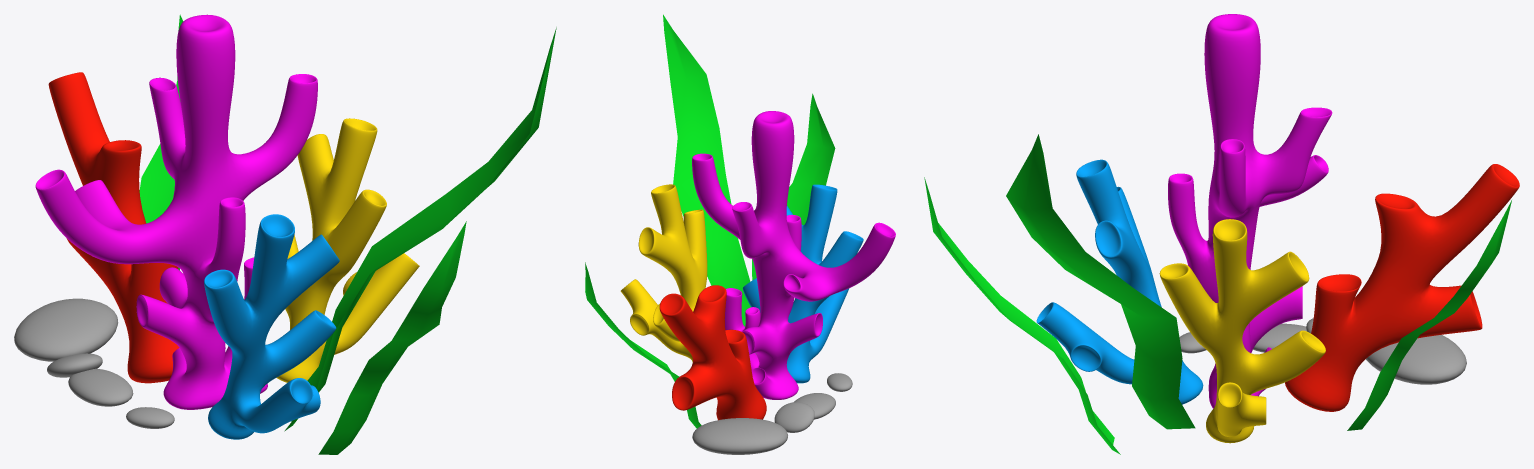
Rendered from Corals 1.fbx.
3 renders of one model, left to right at view 1: azimuth 30°, elevation 25°; view 2: azimuth 150°, elevation 25°; view 3: azimuth 270°, elevation 25°, orthographic. The views are drawn at different scales.
Visible parts, largest first — view 1: Cube, Cube.001, Cube.005, Cube.004, Plane, Plane.001, Cube.009, Cube.006, Plane.002, Cube.008, Cube.007; view 2: Cube, Plane, Cube.004, Cube.005, Cube.001, Cube.009, Plane.001, Plane.002, Cube.008, Cube.006, Cube.007; view 3: Cube.004, Cube, Cube.005, Plane, Cube.001, Plane.001, Plane.002, Cube.009, Cube.006.
Part boxes in pixels (box(x1,y1,x2,y2)): Cube: box(35, 14, 317, 409); Cube.001: box(204, 214, 339, 439); Cube.005: box(276, 118, 419, 382); Cube.004: box(48, 72, 179, 383); Plane: box(284, 27, 556, 431); Plane.001: box(318, 221, 466, 454); Cube.009: box(14, 298, 118, 361); Cube.006: box(68, 368, 133, 406); Plane.002: box(139, 14, 183, 270); Cube.008: box(47, 353, 102, 377); Cube.007: box(126, 407, 174, 428); Cube: box(692, 111, 895, 399); Plane: box(663, 14, 756, 354); Cube.004: box(659, 285, 766, 420); Cube.005: box(620, 184, 707, 362); Cube.001: box(742, 184, 863, 383); Cube.009: box(692, 418, 787, 454); Plane.001: box(752, 93, 835, 280); Plane.002: box(585, 262, 701, 428); Cube.008: box(774, 402, 814, 432); Cube.006: box(794, 393, 835, 419); Cube.007: box(827, 373, 852, 391); Cube.004: box(1285, 164, 1519, 411); Cube: box(1168, 14, 1332, 408); Cube.005: box(1159, 219, 1325, 443); Plane: box(1006, 134, 1195, 429); Cube.001: box(1036, 159, 1203, 404); Plane.001: box(924, 177, 1120, 454); Plane.002: box(1347, 200, 1511, 430); Cube.009: box(1366, 334, 1466, 384); Cube.006: box(1253, 323, 1306, 352).
Size of the model in its own units: 27.79 by 26.03 by 34.89.
